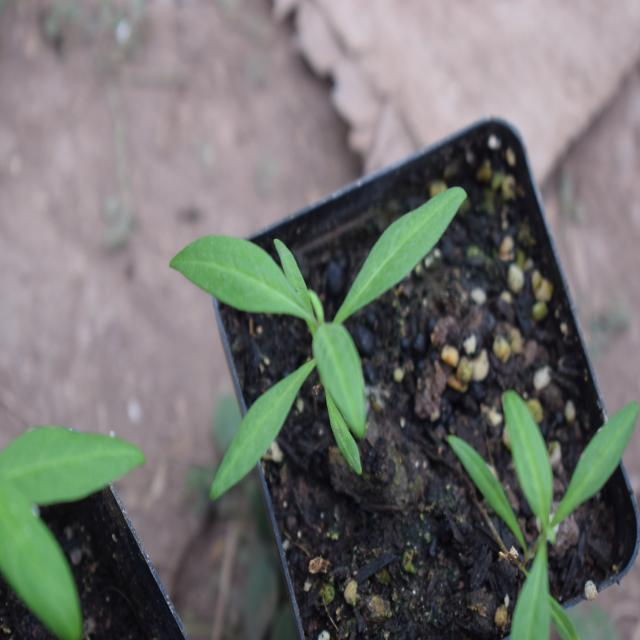white_smart_weed: (170, 177, 457, 545)
